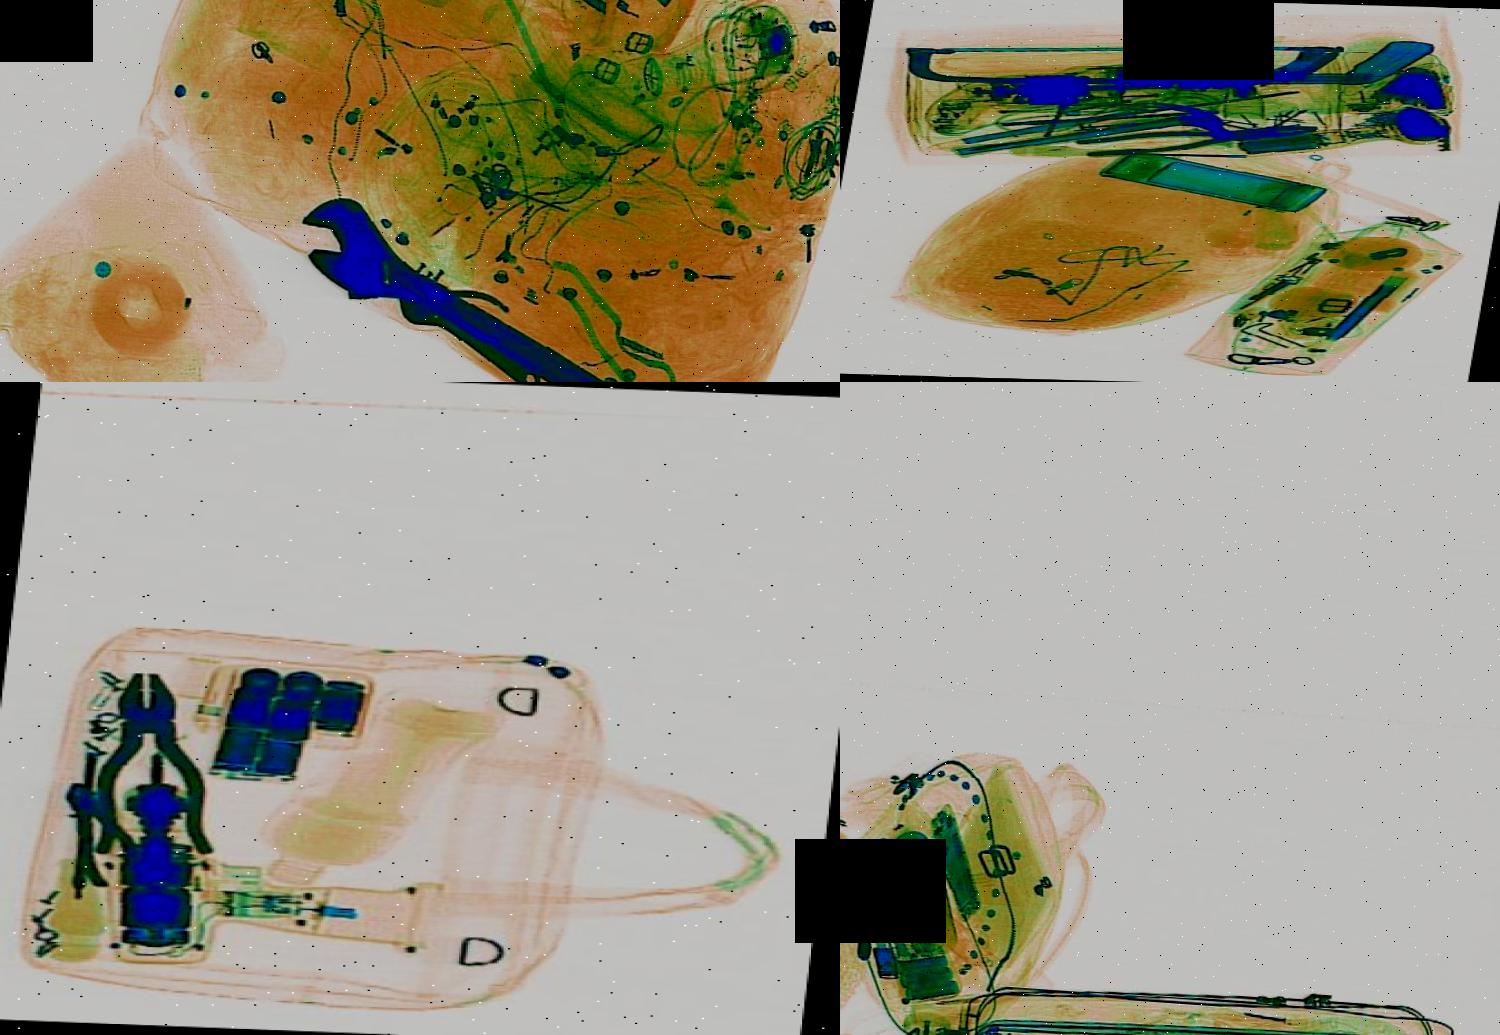Pliers: (69, 665, 236, 862), (33, 773, 165, 891), (1074, 110, 1326, 164)
Wrench: (256, 181, 670, 382)
